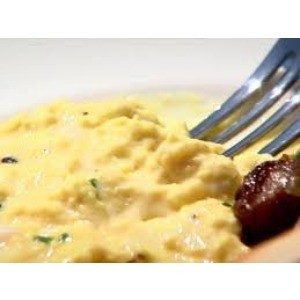cheese_brain food: (17, 131, 174, 238)
